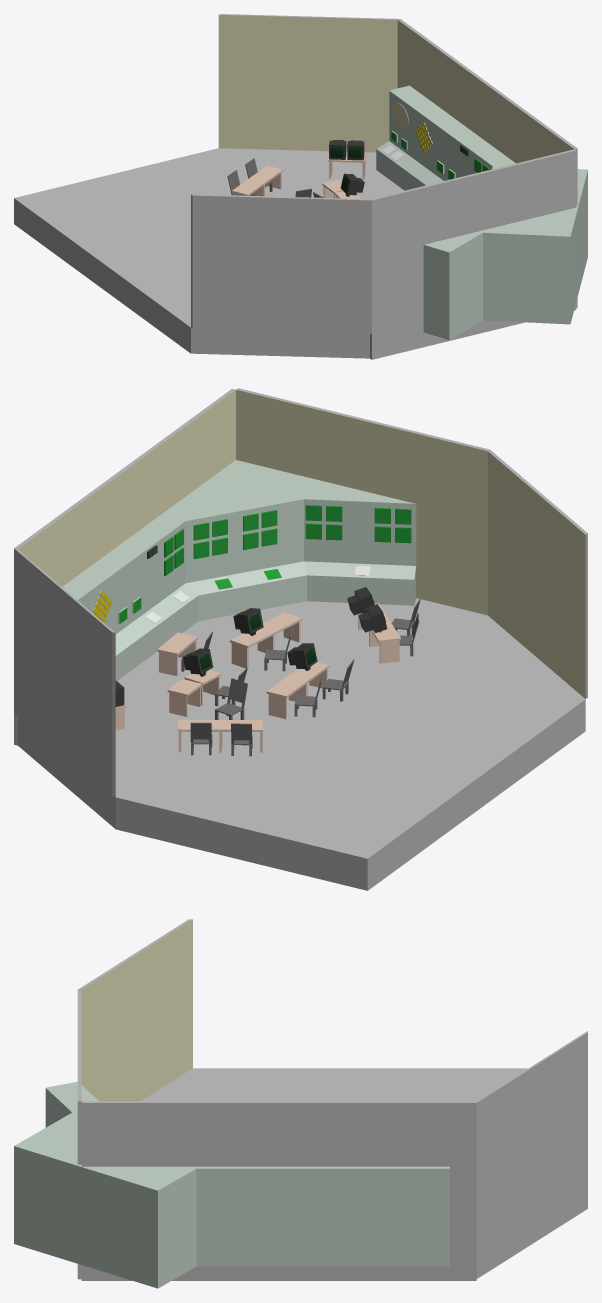
Rendered from Kontrollraum.fbx.
The picture shows the model from 3 angles, top to bottom: view 1: azimuth 30°, elevation 25°; view 2: azimuth 150°, elevation 25°; view 3: azimuth 270°, elevation 25°; orthographic projection. The views are drawn at different scales.
Parts seen in each view (by area): view 1: Cube, Cube.001, table with tv's, table.007; view 2: Cube, Cube.001, table.005, table.001, Cube.013, Cube.014, Cube.011, Cube.003, table.003, table.006, table.002, table.007 (+2 smaller); view 3: Cube, Cube.001.
Part boxes in pixels (x1,y1,x2,y2): Cube: (14, 14, 577, 359); Cube.001: (376, 85, 587, 339); table with tv's: (328, 140, 365, 179); table.007: (232, 165, 283, 196); Cube: (14, 388, 587, 890); Cube.001: (62, 460, 416, 680); table.005: (230, 612, 301, 668); table.001: (266, 662, 329, 719); Cube.013: (374, 507, 411, 543); Cube.014: (305, 505, 342, 540); Cube.011: (243, 510, 277, 549); Cube.003: (193, 519, 227, 559); table.003: (157, 632, 197, 675); table.006: (358, 603, 400, 663); table.002: (167, 679, 202, 716); table.007: (178, 719, 263, 752); Cube: (77, 919, 587, 1280); Cube.001: (14, 1081, 449, 1288).
Bounding box in the file's own units: 1197 × 478 × 1397.
